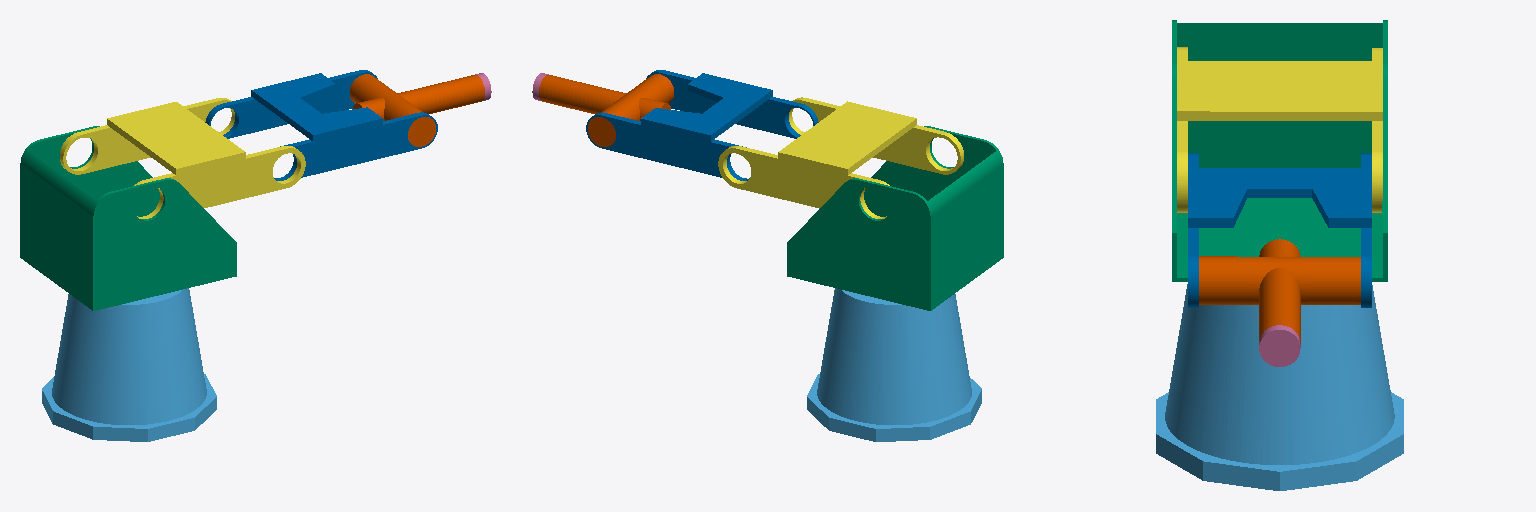
robot.urdf — scorbot:
<?xml version="1.0"?>

<robot name="scorbot">

    <link name="world"/>

    <joint name="fixed" type="fixed">
        <origin xyz="0.0 0.0 0.0" rpy="0.0 0.0 0.0"/>
        <parent link="world"/>
        <child link="base_link"/>
    </joint>

    <link name="base_link">
        <inertial>
            <origin xyz="0.00063327 0.00002002 0.08600836" rpy="0.0 0.0 0.0"/>
            <mass value="5.64418463"/>
            <inertia ixx="0.03159046" ixy="0.0" ixz="0.0" iyy="0.03159045" iyz="0.00000859" izz="0.02690899"/>
        </inertial>
        <visual>
            <origin xyz="0.0 0.0 0.0" rpy="0.0 0.0 0.0"/>
            <geometry>
                <mesh filename="package://scorbot/meshes/base_link.stl" scale="1 1 1"/>
            </geometry>
        </visual>
        <collision>
            <origin xyz="0.0 0.0 0.0" rpy="0.0 0.0 0.0"/>
            <geometry>
                <mesh filename="package://scorbot/meshes/base_link.stl" scale="1 1 1"/>
            </geometry>
        </collision>
    </link>

    <joint name="j1" type="revolute">
        <origin xyz="0.0 0.0 0.19" rpy="0.0 0.0 0.0"/>
        <parent link="base_link"/>
        <child link="link_1"/>
        <axis xyz="0.0 0.0 1.0"/>
        <limit lower="-3.14" upper="3.14" effort="10.0" velocity="20.0"/>
        <dynamics damping="0.0" friction="0.0"/>
    </joint>

    <transmission name="m1">
        <type>transmission_interface/SimpleTransmission</type>
        <joint name="j1">
            <hardwareInterface>hardware_interface/EffortJointInterface</hardwareInterface>
        </joint>
        <actuator name="j1">
            <mechanicalReduction>1.0</mechanicalReduction>
            <hardwareInterface>hardware_interface/EffortJointInterface</hardwareInterface>
        </actuator>
    </transmission>

    <link name="link_1">
        <inertial>
            <origin xyz="-0.03930974 0.0 0.07464813" rpy="0.0 0.0 0.0"/>
            <mass value="0.76082182"/>
            <inertia ixx="0.00625249" ixy="0.0" ixz="0.00099059" iyy="0.00574761" iyz="0.0" izz="0.00805851"/>
        </inertial>
        <visual>
            <origin xyz="0.0 0.0 0.0" rpy="0.0 0.0 0.0"/>
            <geometry>
                <mesh filename="package://scorbot/meshes/link_1.stl" scale="1 1 1"/>
            </geometry>
        </visual>
        <collision>
            <origin xyz="0.0 0.0 0.0" rpy="0.0 0.0 0.0"/>
            <geometry>
                <mesh filename="package://scorbot/meshes/link_1.stl" scale="1 1 1"/>
            </geometry>
        </collision>
    </link>

    <joint name="j2" type="revolute">
        <origin xyz="-0.025 -0.095 0.16205" rpy="1.57 0.0 0.0"/>
        <parent link="link_1"/>
        <child link="link_2"/>
        <axis xyz="0.0 0.0 1.0"/>
        <limit lower="-3.14" upper="3.14" effort="10.0" velocity="20.0"/>
        <dynamics damping="0.0" friction="0.0"/>
    </joint>

    <transmission name="m2">
        <type>transmission_interface/SimpleTransmission</type>
        <joint name="j2">
            <hardwareInterface>hardware_interface/EffortJointInterface</hardwareInterface>
        </joint>
        <actuator name="j2">
            <mechanicalReduction>1.0</mechanicalReduction>
            <hardwareInterface>hardware_interface/EffortJointInterface</hardwareInterface>
        </actuator>
    </transmission>

    <link name="link_2">
        <inertial>
            <origin xyz="0.10539325 0.01595524 -0.09500000" rpy="0.0 0.0 0.0"/>
            <mass value="0.45100885"/>
            <inertia ixx="0.00280980" ixy="0.00005266" ixz="0.0" iyy="0.00392943" iyz="0.0" izz="0.00150072"/>
        </inertial>
        <visual>
            <origin xyz="0.0 0.0 0.0" rpy="0.0 0.0 0.0"/>
            <geometry>
                <mesh filename="package://scorbot/meshes/link_2.stl" scale="1 1 1"/>
            </geometry>
        </visual>
        <collision>
            <origin xyz="0.0 0.0 0.0" rpy="0.0 0.0 0.0"/>
            <geometry>
                <mesh filename="package://scorbot/meshes/link_2.stl" scale="1 1 1"/>
            </geometry>
        </collision>
    </link>

    <joint name="j3" type="revolute">
        <origin xyz="0.22 0.0 -0.01" rpy="0.0 0.0 0.0"/>
        <parent link="link_2"/>
        <child link="link_3"/>
        <axis xyz="0.0 0.0 1.0"/>
        <limit lower="-3.14" upper="3.14" effort="10.0" velocity="20.0"/>
        <dynamics damping="0.0" friction="0.0"/>
    </joint>

    <transmission name="m3">
        <type>transmission_interface/SimpleTransmission</type>
        <joint name="j3">
            <hardwareInterface>hardware_interface/EffortJointInterface</hardwareInterface>
        </joint>
        <actuator name="j3">
            <mechanicalReduction>1.0</mechanicalReduction>
            <hardwareInterface>hardware_interface/EffortJointInterface</hardwareInterface>
        </actuator>
    </transmission>

    <link name="link_3">
        <inertial>
            <origin xyz="0.10355563 0.01245472 -0.08492515" rpy="0.0 0.0 0.0"/>
            <mass value="0.33453905"/>
            <inertia ixx="0.00179957" ixy="0.00003783" ixz="-0.00000085" iyy="0.00251621" iyz="-0.00000044" izz="0.00095300"/>
        </inertial>
        <visual>
            <origin xyz="0.0 0.0 0.0" rpy="0.0 0.0 0.0"/>
            <geometry>
                <mesh filename="package://scorbot/meshes/link_3.stl" scale="1 1 1"/>
            </geometry>
        </visual>
        <collision>
            <origin xyz="0.0 0.0 0.0" rpy="0.0 0.0 0.0"/>
            <geometry>
                <mesh filename="package://scorbot/meshes/link_3.stl" scale="1 1 1"/>
            </geometry>
        </collision>
    </link>

    <joint name="j4" type="revolute">
        <origin xyz="0.22 0.0 0.0" rpy="0.0 0.0 1.57"/>
        <parent link="link_3"/>
        <child link="link_4"/>
        <axis xyz="0.0 0.0 1.0"/>
        <limit lower="-3.14" upper="3.14" effort="10.0" velocity="20.0"/>
        <dynamics damping="0.0" friction="0.0"/>
    </joint>

    <transmission name="m4">
        <type>transmission_interface/SimpleTransmission</type>
        <joint name="j4">
            <hardwareInterface>hardware_interface/EffortJointInterface</hardwareInterface>
        </joint>
        <actuator name="j4">
            <mechanicalReduction>1.0</mechanicalReduction>
            <hardwareInterface>hardware_interface/EffortJointInterface</hardwareInterface>
        </actuator>
    </transmission>

    <link name="link_4">
        <inertial>
            <origin xyz="-0.00000004 -0.02155892 -0.08499989" rpy="0.0 0.0 0.0"/>
            <mass value="0.43957892"/>
            <inertia ixx="0.00154062" ixy="-0.00000001" ixz="0.0" iyy="0.00071661" iyz="0.0" izz="0.00092437"/>
        </inertial>
        <visual>
            <origin xyz="0.0 0.0 0.0" rpy="0.0 0.0 0.0"/>
            <geometry>
                <mesh filename="package://scorbot/meshes/link_4.stl" scale="1 1 1"/>
            </geometry>
        </visual>
        <collision>
            <origin xyz="0.0 0.0 0.0" rpy="0.0 0.0 0.0"/>
            <geometry>
                <mesh filename="package://scorbot/meshes/link_4.stl" scale="1 1 1"/>
            </geometry>
        </collision>
    </link>

    <joint name="j5" type="revolute">
        <origin xyz="0.0 -0.14790 -0.085" rpy="1.57 1.57 0.0"/>
        <parent link="link_4"/>
        <child link="link_5"/>
        <axis xyz="0.0 0.0 1.0"/>
        <limit lower="-3.14" upper="3.14" effort="10.0" velocity="20.0"/>
        <dynamics damping="0.0" friction="0.0"/>
    </joint>

    <transmission name="m5">
        <type>transmission_interface/SimpleTransmission</type>
        <joint name="j5">
            <hardwareInterface>hardware_interface/EffortJointInterface</hardwareInterface>
        </joint>
        <actuator name="j5">
            <mechanicalReduction>1.0</mechanicalReduction>
            <hardwareInterface>hardware_interface/EffortJointInterface</hardwareInterface>
        </actuator>
    </transmission>

    <link name="link_5">
        <inertial>
            <origin xyz="0.0 0.0 -0.00500000" rpy="0.0 0.0 0.0"/>
            <mass value="0.01147285"/>
            <inertia ixx="0.01" ixy="0.0" ixz="0.0" iyy="0.01" iyz="0.0" izz="0.01"/>
        </inertial>
        <visual>
            <origin xyz="0.0 0.0 0.0" rpy="0.0 0.0 0.0"/>
            <geometry>
                <mesh filename="package://scorbot/meshes/link_5.stl" scale="1 1 1"/>
            </geometry>
        </visual>
        <collision>
            <origin xyz="0.0 0.0 0.0" rpy="0.0 0.0 0.0"/>
            <geometry>
                <mesh filename="package://scorbot/meshes/link_5.stl" scale="1 1 1"/>
            </geometry>
        </collision>
    </link>

    <gazebo>
        <plugin name = "gazebo_ros_control" filename = "libgazebo_ros_control.so">
            <robotNamespace>/scorbot</robotNamespace>
        </plugin>
    </gazebo>
</robot>

--- Facts derived from the render (not from the file) ---
Views: 3 orthographic renders of the robot side by side, from view 1: azimuth 30°, elevation 25°; view 2: azimuth 150°, elevation 25°; view 3: azimuth 270°, elevation 25°.
Robot: scorbot — 7 links, 6 joints (5 revolute, 1 fixed); root link world; default pose: every joint at zero.
Visible links, largest first — view 1: link_1, base_link, link_2, link_3, link_4; view 2: link_1, base_link, link_2, link_3, link_4; view 3: base_link, link_1, link_2, link_3, link_4, link_5.
Link boxes in pixels (<box>): link_1: <box>20,126,236,310</box>; base_link: <box>42,288,216,441</box>; link_2: <box>60,98,305,218</box>; link_3: <box>205,70,437,180</box>; link_4: <box>350,74,484,146</box>; link_1: <box>787,126,1003,310</box>; base_link: <box>807,288,981,441</box>; link_2: <box>718,97,963,218</box>; link_3: <box>586,70,818,180</box>; link_4: <box>539,74,673,146</box>; base_link: <box>1156,284,1403,490</box>; link_1: <box>1172,20,1387,281</box>; link_2: <box>1177,47,1382,212</box>; link_3: <box>1188,153,1371,307</box>; link_4: <box>1199,239,1360,343</box>; link_5: <box>1259,325,1300,366</box>.
Size in the robot's own frame: 0.6832 by 0.23 by 0.392 metres.
Meshes: 6 distinct files referenced, 6 mesh visuals loaded (6 ASCII STL).